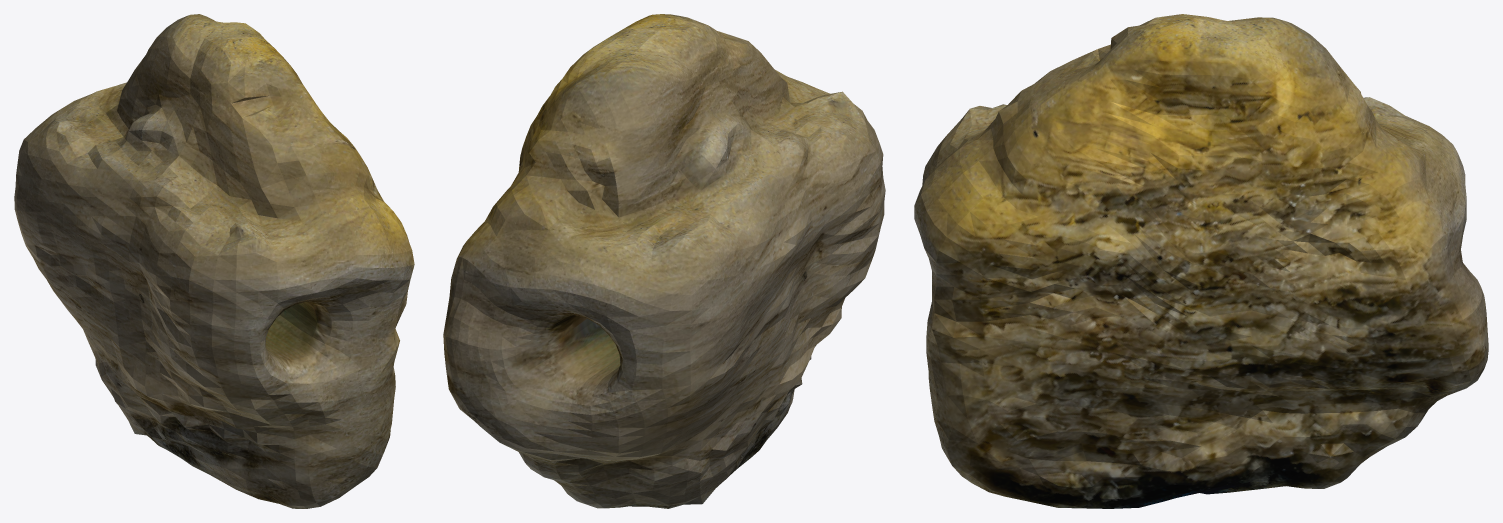
The model's file is pumice_001.glb.
3 renders of one model, left to right at view 1: azimuth 30°, elevation 25°; view 2: azimuth 150°, elevation 25°; view 3: azimuth 270°, elevation 25°, orthographic. The views are drawn at different scales.
Visible parts, largest first — view 1: tripo_node_5c2715b6-e4b1-4e9f-8933-0b1bd13fd8bf; view 2: tripo_node_5c2715b6-e4b1-4e9f-8933-0b1bd13fd8bf; view 3: tripo_node_5c2715b6-e4b1-4e9f-8933-0b1bd13fd8bf.
Part boxes in pixels (x1,y1,x2,y2): tripo_node_5c2715b6-e4b1-4e9f-8933-0b1bd13fd8bf: [14, 14, 414, 508]; tripo_node_5c2715b6-e4b1-4e9f-8933-0b1bd13fd8bf: [443, 14, 885, 508]; tripo_node_5c2715b6-e4b1-4e9f-8933-0b1bd13fd8bf: [914, 14, 1488, 508].
Size of the model in its own units: 0.5167 by 0.869 by 0.9421.
1 material, 1 textured.
